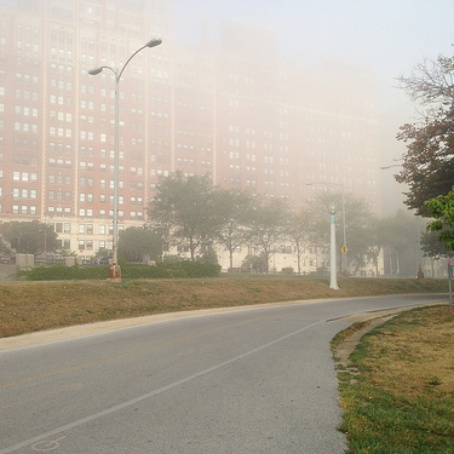building: (202, 1, 429, 238), (1, 1, 203, 230)
grass: (1, 269, 367, 327), (349, 310, 454, 454)
light pole: (82, 36, 172, 281)
street: (1, 294, 401, 454)
tree: (387, 81, 454, 260)
